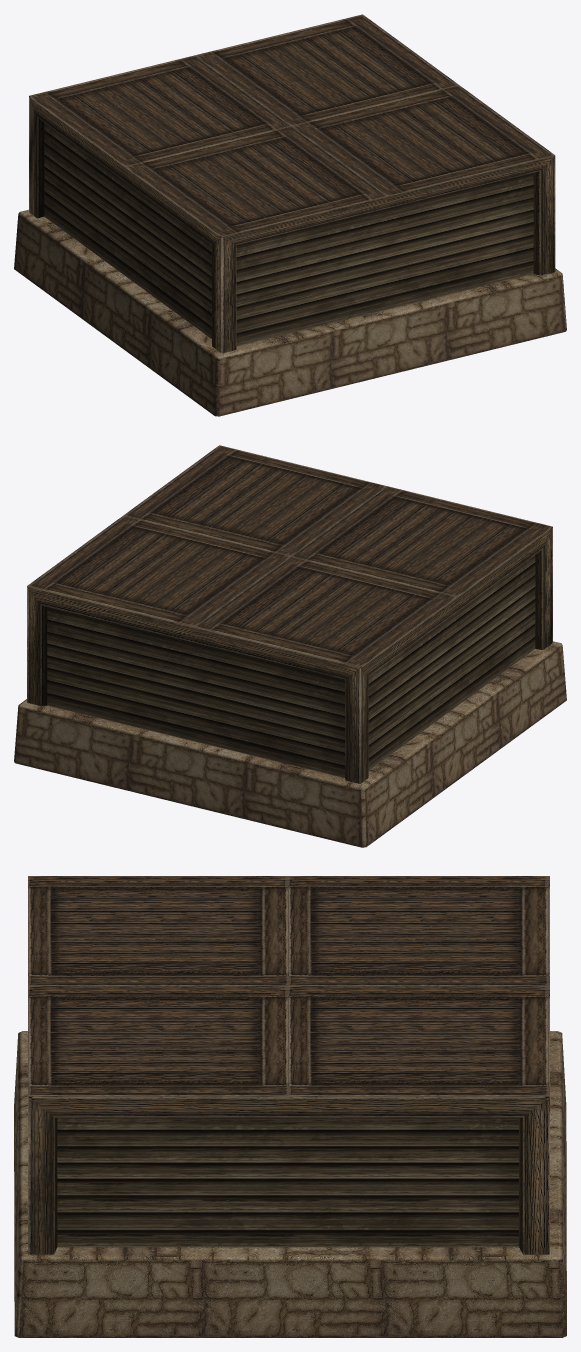
File: House_8X8_02c.fbx
The picture shows the model from 3 angles, top to bottom: view 1: azimuth 30°, elevation 25°; view 2: azimuth 150°, elevation 25°; view 3: azimuth 270°, elevation 25°; orthographic projection. The views are drawn at different scales.
Parts seen in each view (by area): view 1: House_8X8_02c; view 2: House_8X8_02c; view 3: House_8X8_02c.
Part boxes in pixels (left/top/right/bottom): House_8X8_02c: left=14, top=14, right=566, bottom=416; House_8X8_02c: left=14, top=445, right=566, bottom=847; House_8X8_02c: left=14, top=876, right=566, bottom=1337.
Size of the model in its own units: 8.45 by 3.99 by 8.48.
